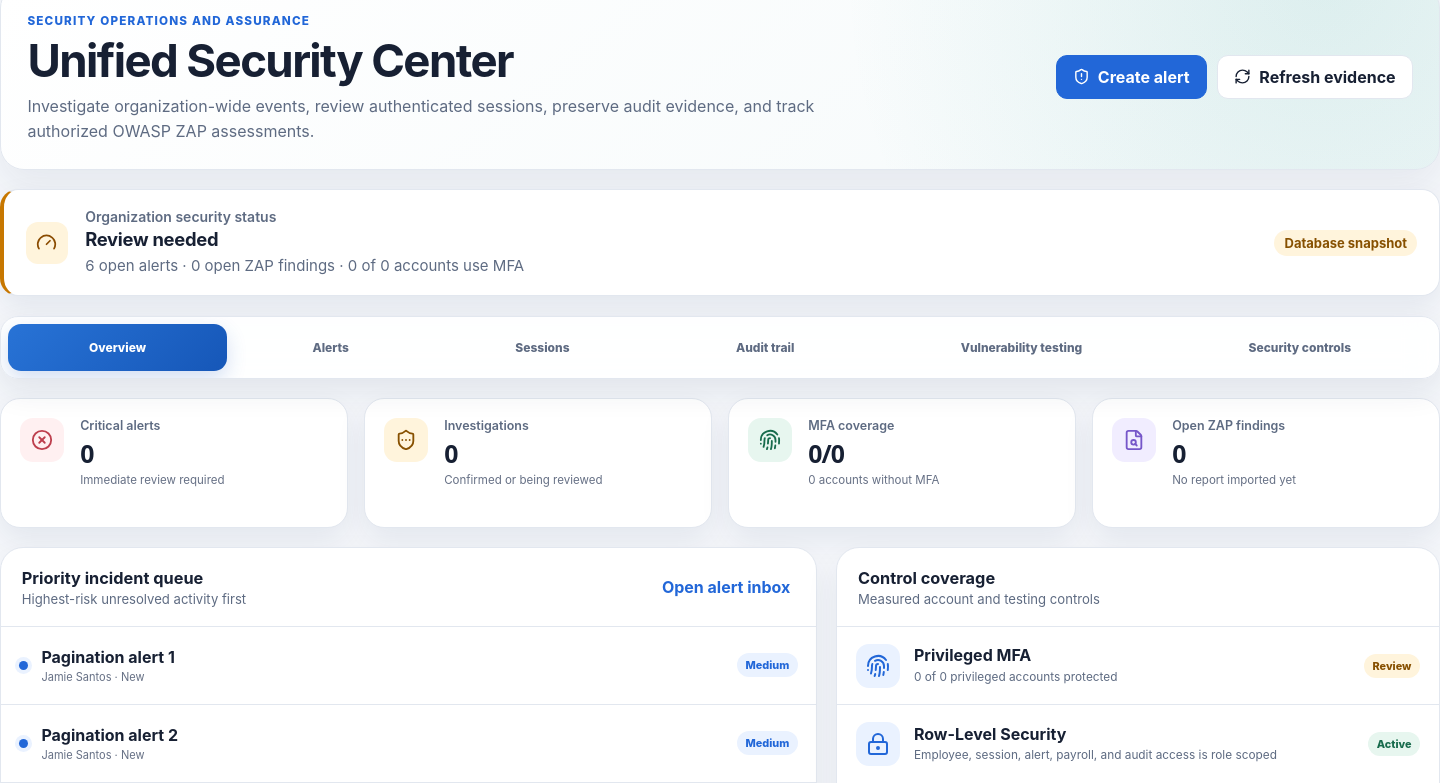
Security Center protected workflows › paginates alert and audit evidence instead of rendering unbounded lists
Click the button "Alerts" at (331, 347), box top-left (232, 324), bottom-right (430, 371)
(page scrolled)
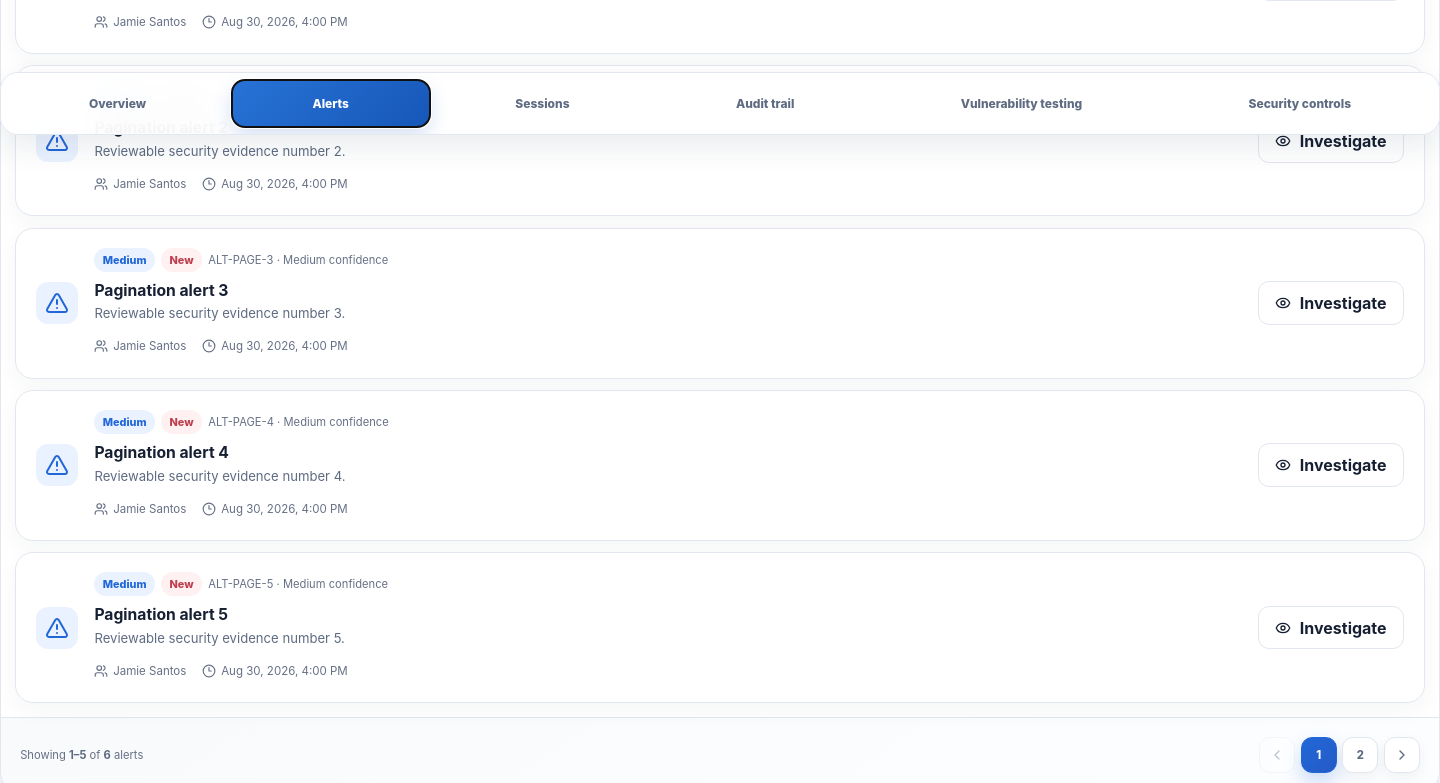
Check: the text "Pagination alert 6" is not shown
Click the button named "Next alert page" at (1402, 755), box top-left (1384, 737), bottom-right (1420, 773)
(page scrolled)
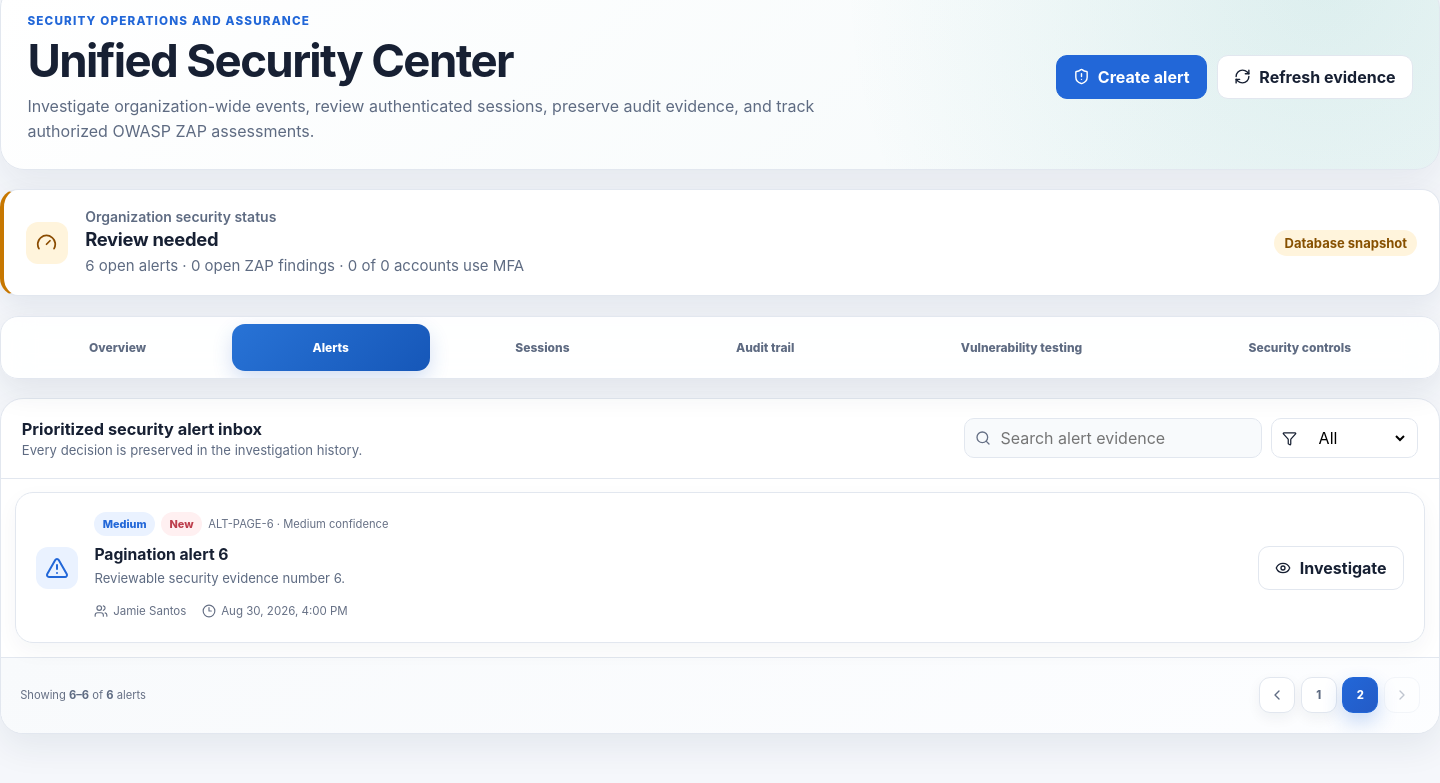
Check: the heading "Pagination alert 6" is shown, box top-left (94, 545), bottom-right (228, 564)
Click the button "Audit trail" at (765, 347), box top-left (655, 324), bottom-right (875, 371)
(page scrolled)
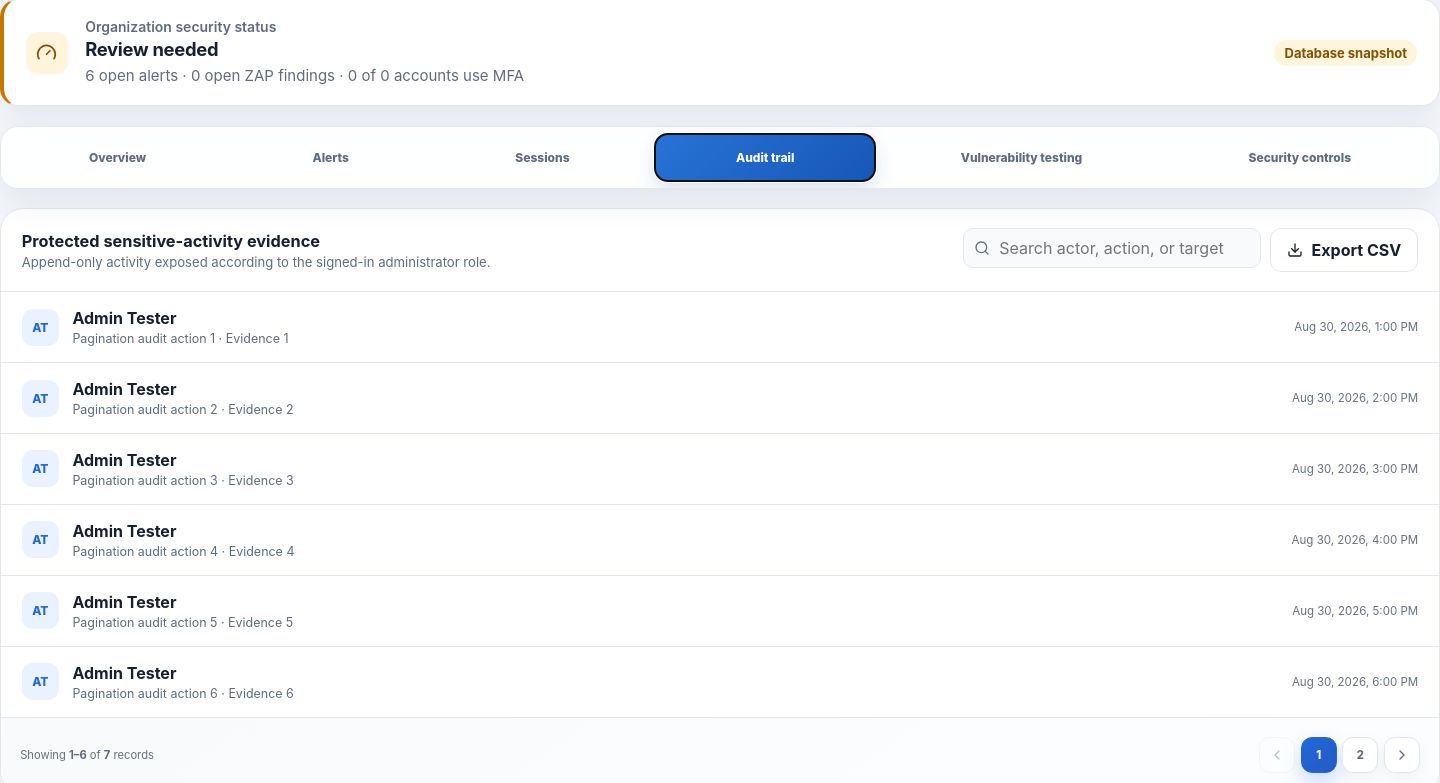
Check: the text "Pagination audit action 7" is not shown
Check: the text "Pagination audit action 1 · Evidence 1" is shown, box top-left (72, 331), bottom-right (288, 346)
Click the button named "Next audit page" at (1402, 755), box top-left (1384, 737), bottom-right (1420, 773)
(page scrolled)
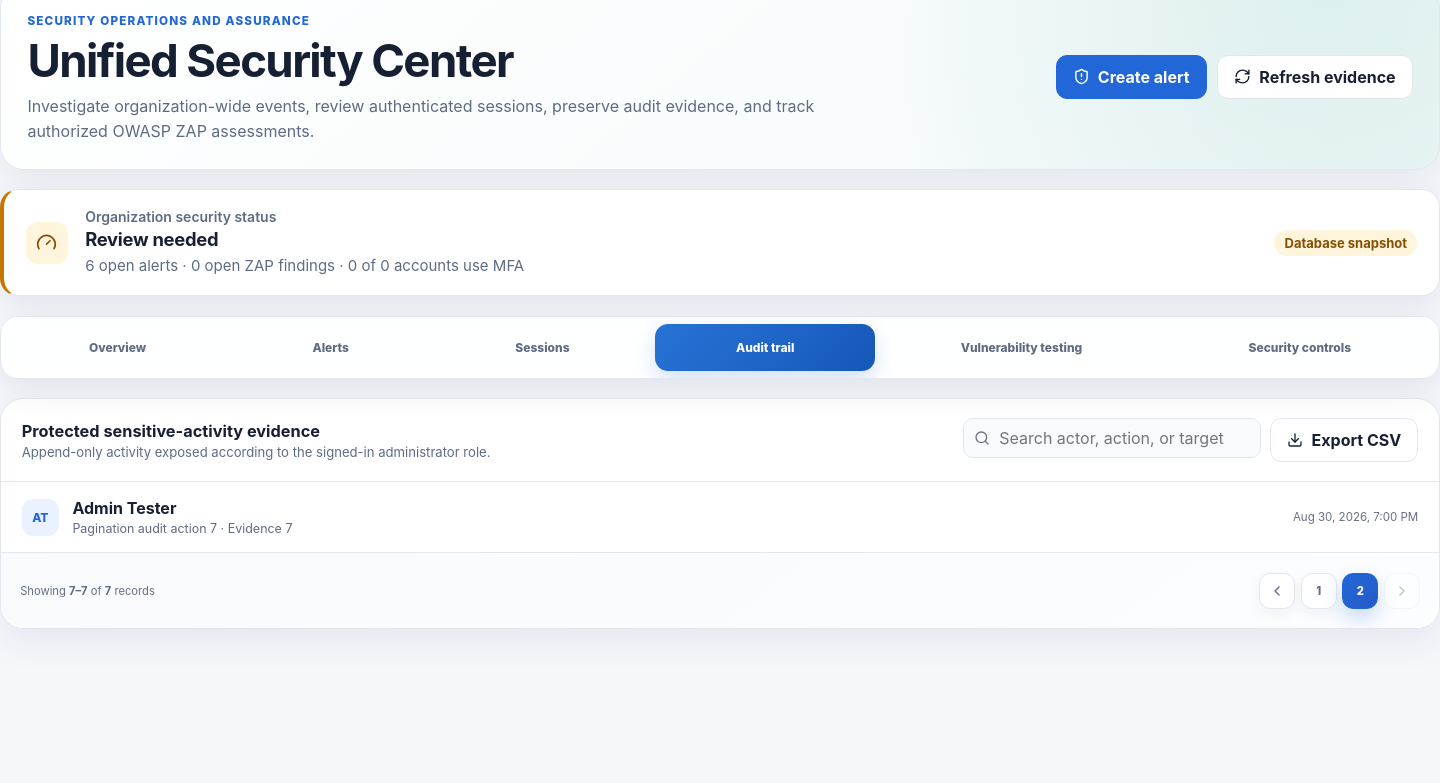
Check: the text "Pagination audit action 7 · Evidence 7" is shown, box top-left (72, 521), bottom-right (292, 536)
Check: the text "Pagination audit action 1" is gone
